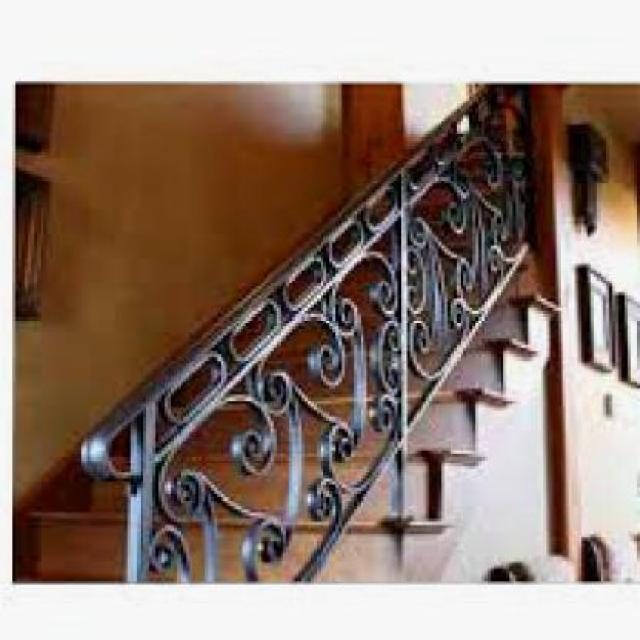stair: (12, 88, 563, 582)
